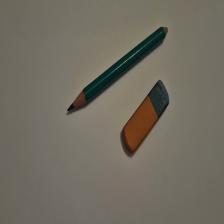eraser: (123, 80, 170, 154)
pencil: (68, 27, 169, 113)
